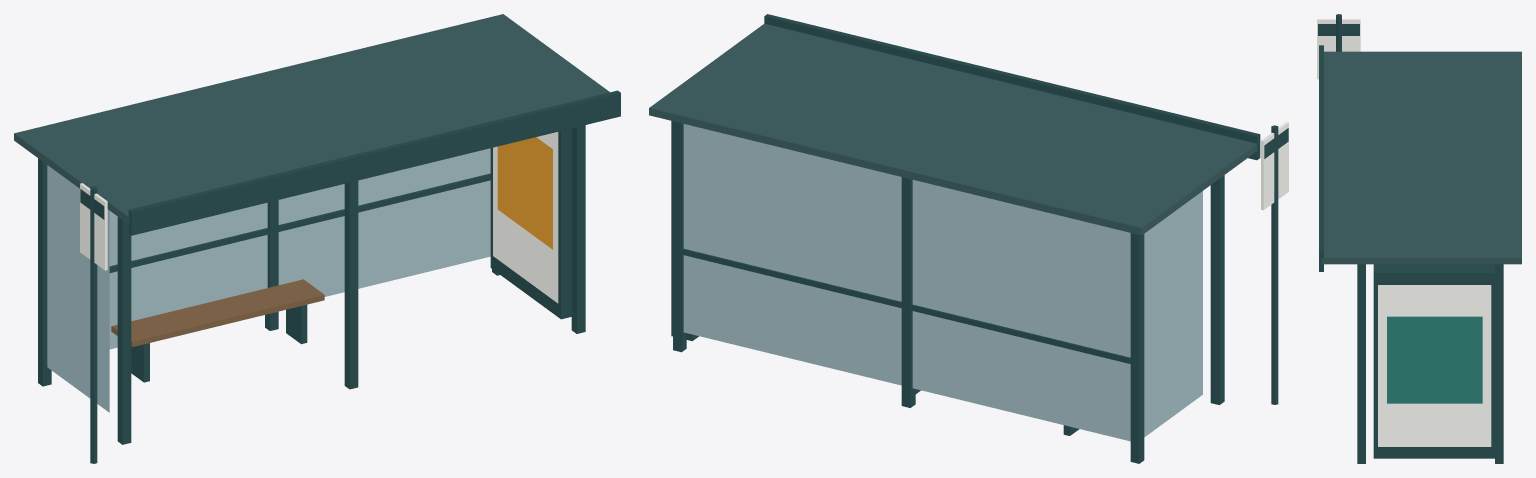
The model's file is seattle_bus_shelter.glb.
3 renders of one model, left to right at view 1: azimuth 30°, elevation 25°; view 2: azimuth 150°, elevation 25°; view 3: azimuth 270°, elevation 25°, orthographic. The views are drawn at different scales.
Parts seen in each view (by area): view 1: seattle_bus_shelter; view 2: seattle_bus_shelter; view 3: seattle_bus_shelter.
Part boxes in pixels (left/top/right/bottom): seattle_bus_shelter: left=14, top=14, right=620, bottom=463; seattle_bus_shelter: left=649, top=14, right=1288, bottom=463; seattle_bus_shelter: left=1317, top=14, right=1521, bottom=463.
Size of the model in its own units: 5.94 by 3 by 2.35.
1 material, 1 textured.
